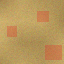vehicle: (45, 44, 62, 59), (36, 11, 48, 22), (7, 25, 17, 36)
